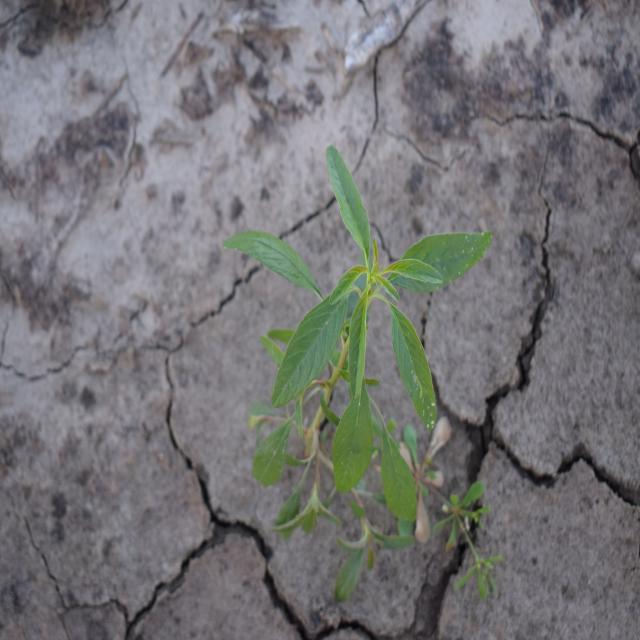Carpetweed: (388, 414, 505, 613)
Waterhemp: (218, 142, 495, 610)
